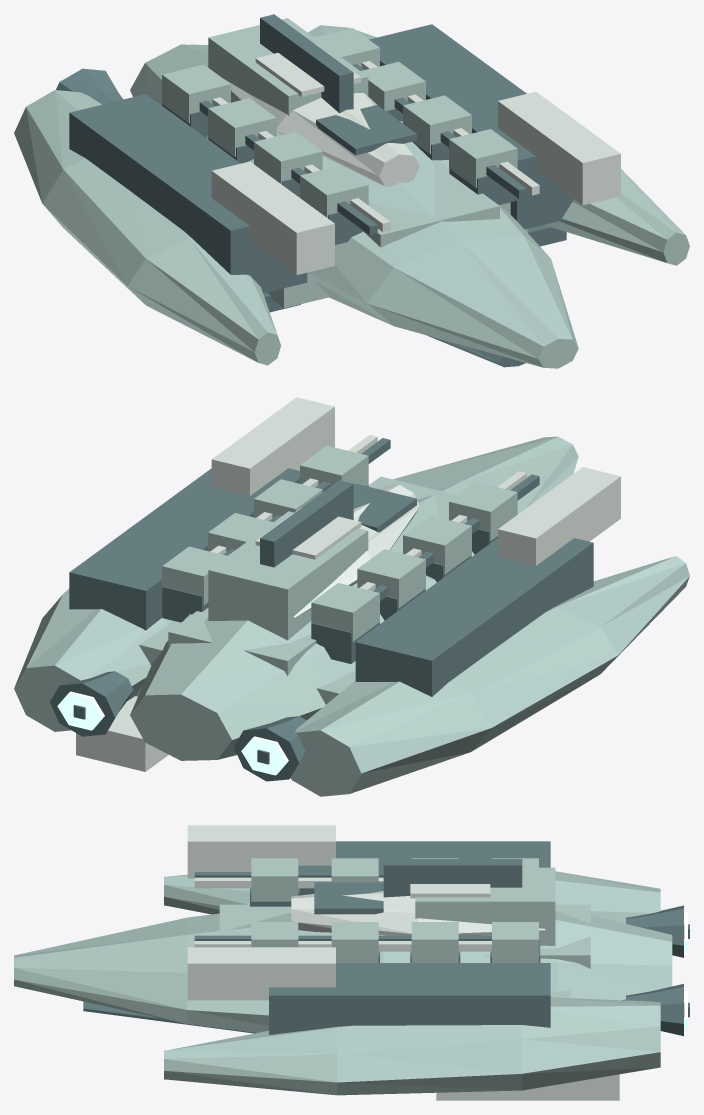
3 renders of one model, top to bottom at view 1: azimuth 30°, elevation 25°; view 2: azimuth 150°, elevation 25°; view 3: azimuth 270°, elevation 25°, orthographic. The views are drawn at different scales.
Size of the model in its own units: 19.73 by 7.96 by 26.99.
